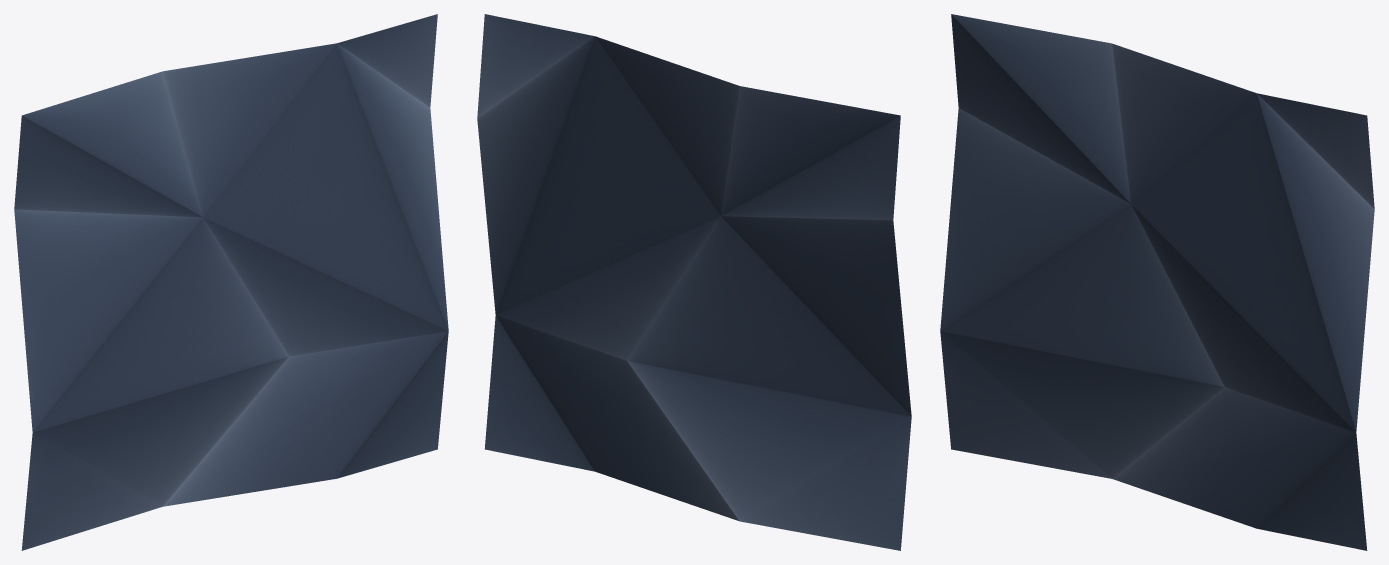
Rendered from SM_Wall_Face_A.fbx.
3 views of the same model, side by side, from view 1: azimuth 30°, elevation 25°; view 2: azimuth 150°, elevation 25°; view 3: azimuth 330°, elevation 25° (orthographic).
Visible parts, largest first — view 1: pCube206; view 2: pCube206; view 3: pCube206.
Part boxes in pixels (<box>): pCube206: <box>14,14,448,550</box>; pCube206: <box>477,14,911,550</box>; pCube206: <box>940,14,1374,550</box>.
Size of the model in its own units: 1 by 1 by 0.087.
